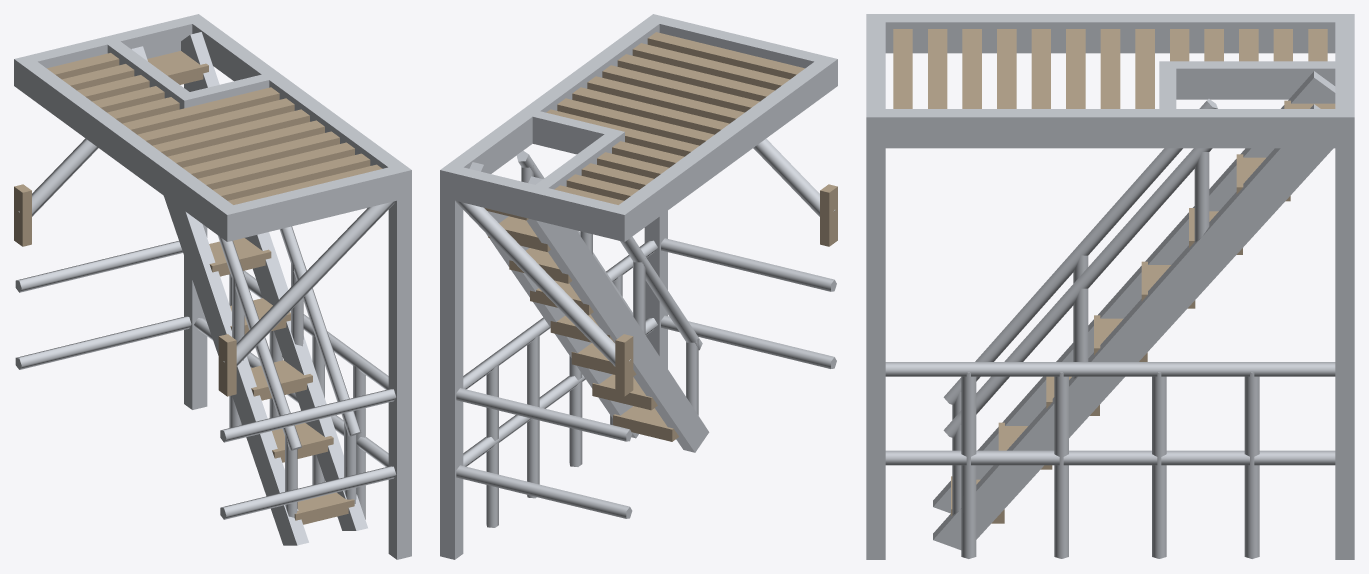
The model's file is building.fireescape.glb.
3 views of the same model, side by side, from view 1: azimuth 30°, elevation 25°; view 2: azimuth 150°, elevation 25°; view 3: azimuth 270°, elevation 25° (orthographic). The views are drawn at different scales.
Parts seen in each view (by area): view 1: Metal, PaintDark; view 2: Metal, PaintDark; view 3: Metal, PaintDark.
Boxes of the visible parts, x1,y1,x2,y2 form: Metal: [14, 14, 411, 559]; PaintDark: [14, 51, 382, 524]; Metal: [440, 14, 837, 559]; PaintDark: [484, 32, 837, 441]; Metal: [866, 14, 1354, 559]; PaintDark: [893, 29, 1335, 523].
Bounding box in the file's own units: 0.5015 × 1 × 1.
